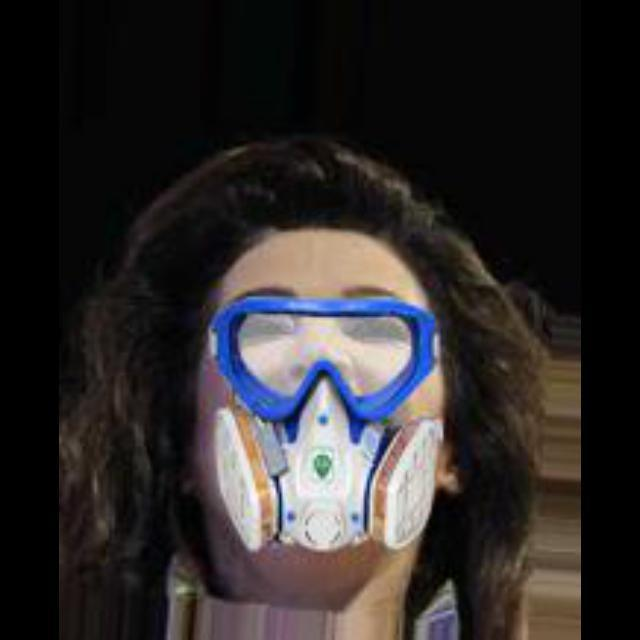suspicion: (152, 168, 504, 580)
